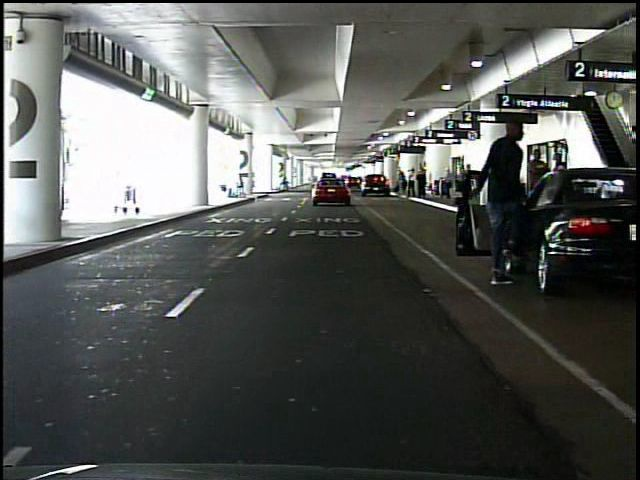person: (479, 115, 540, 293), (525, 147, 552, 229), (551, 151, 571, 231), (459, 164, 470, 206), (442, 168, 454, 200), (406, 167, 417, 200), (417, 169, 428, 201), (398, 171, 408, 197), (281, 174, 290, 191)
